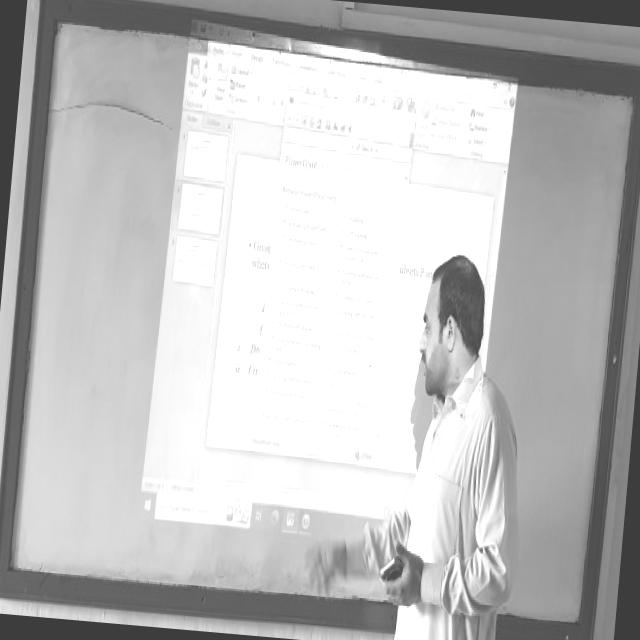Instructor: (379, 230, 534, 640)
Slide: (137, 15, 518, 565)
White-board: (1, 8, 640, 636)
